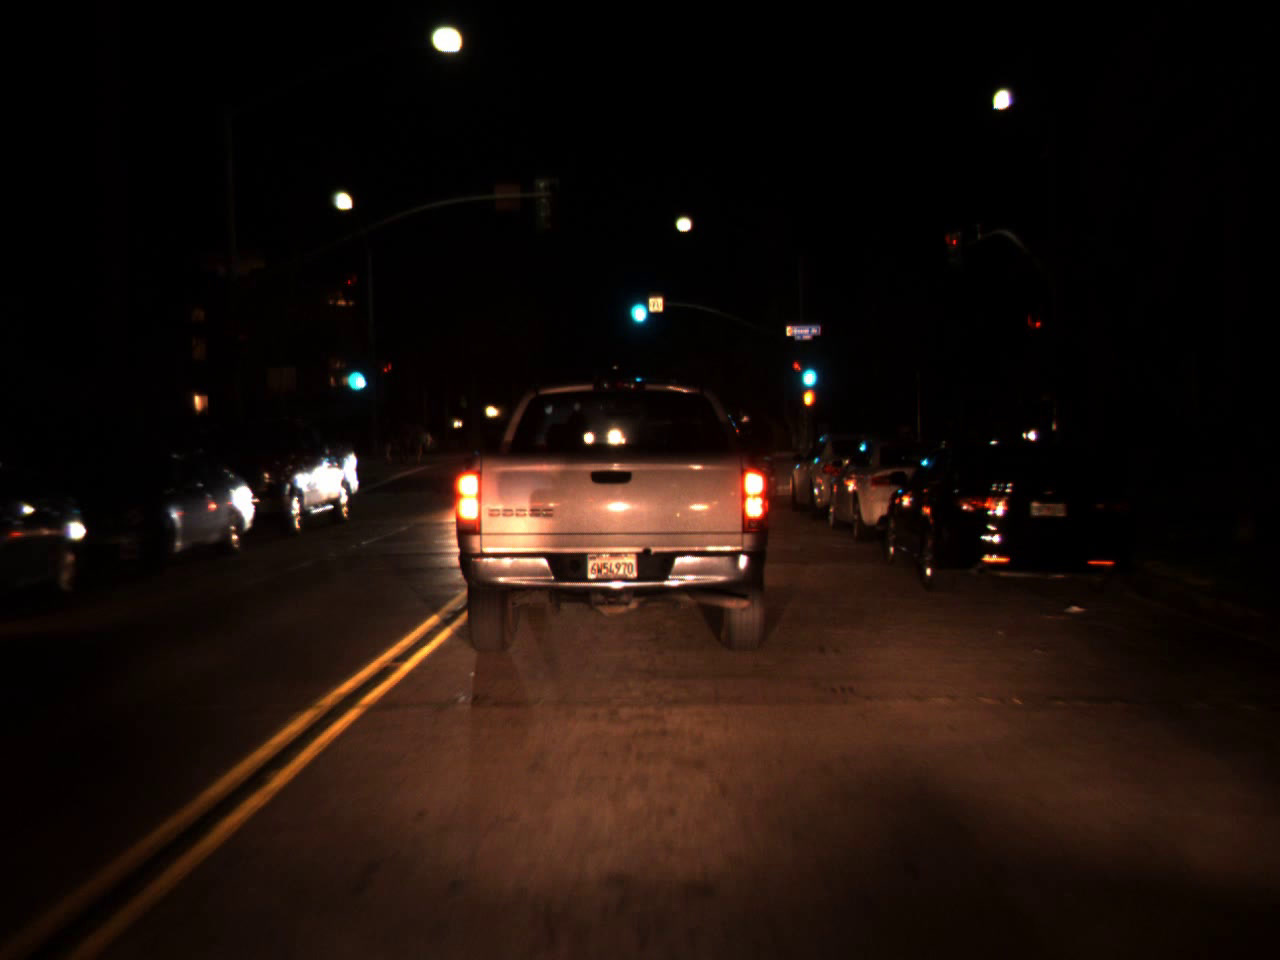go: (625, 279, 650, 330), (342, 349, 367, 397), (798, 346, 819, 394)
